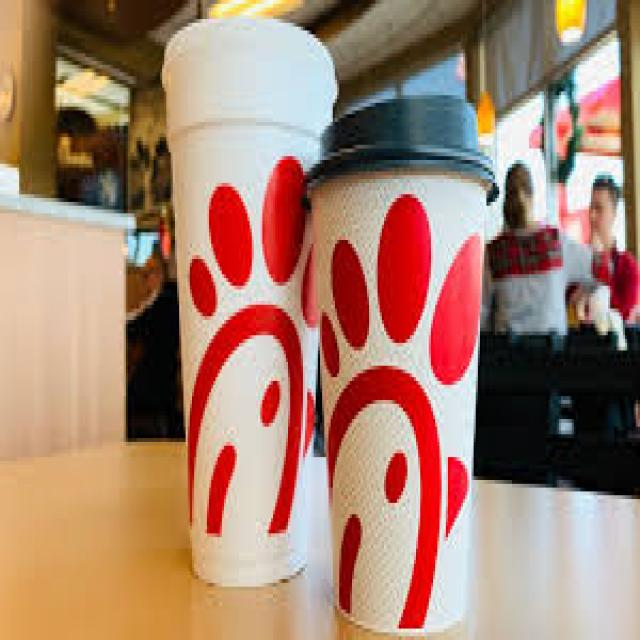styrofoam: (306, 96, 498, 631), (162, 22, 336, 584)
